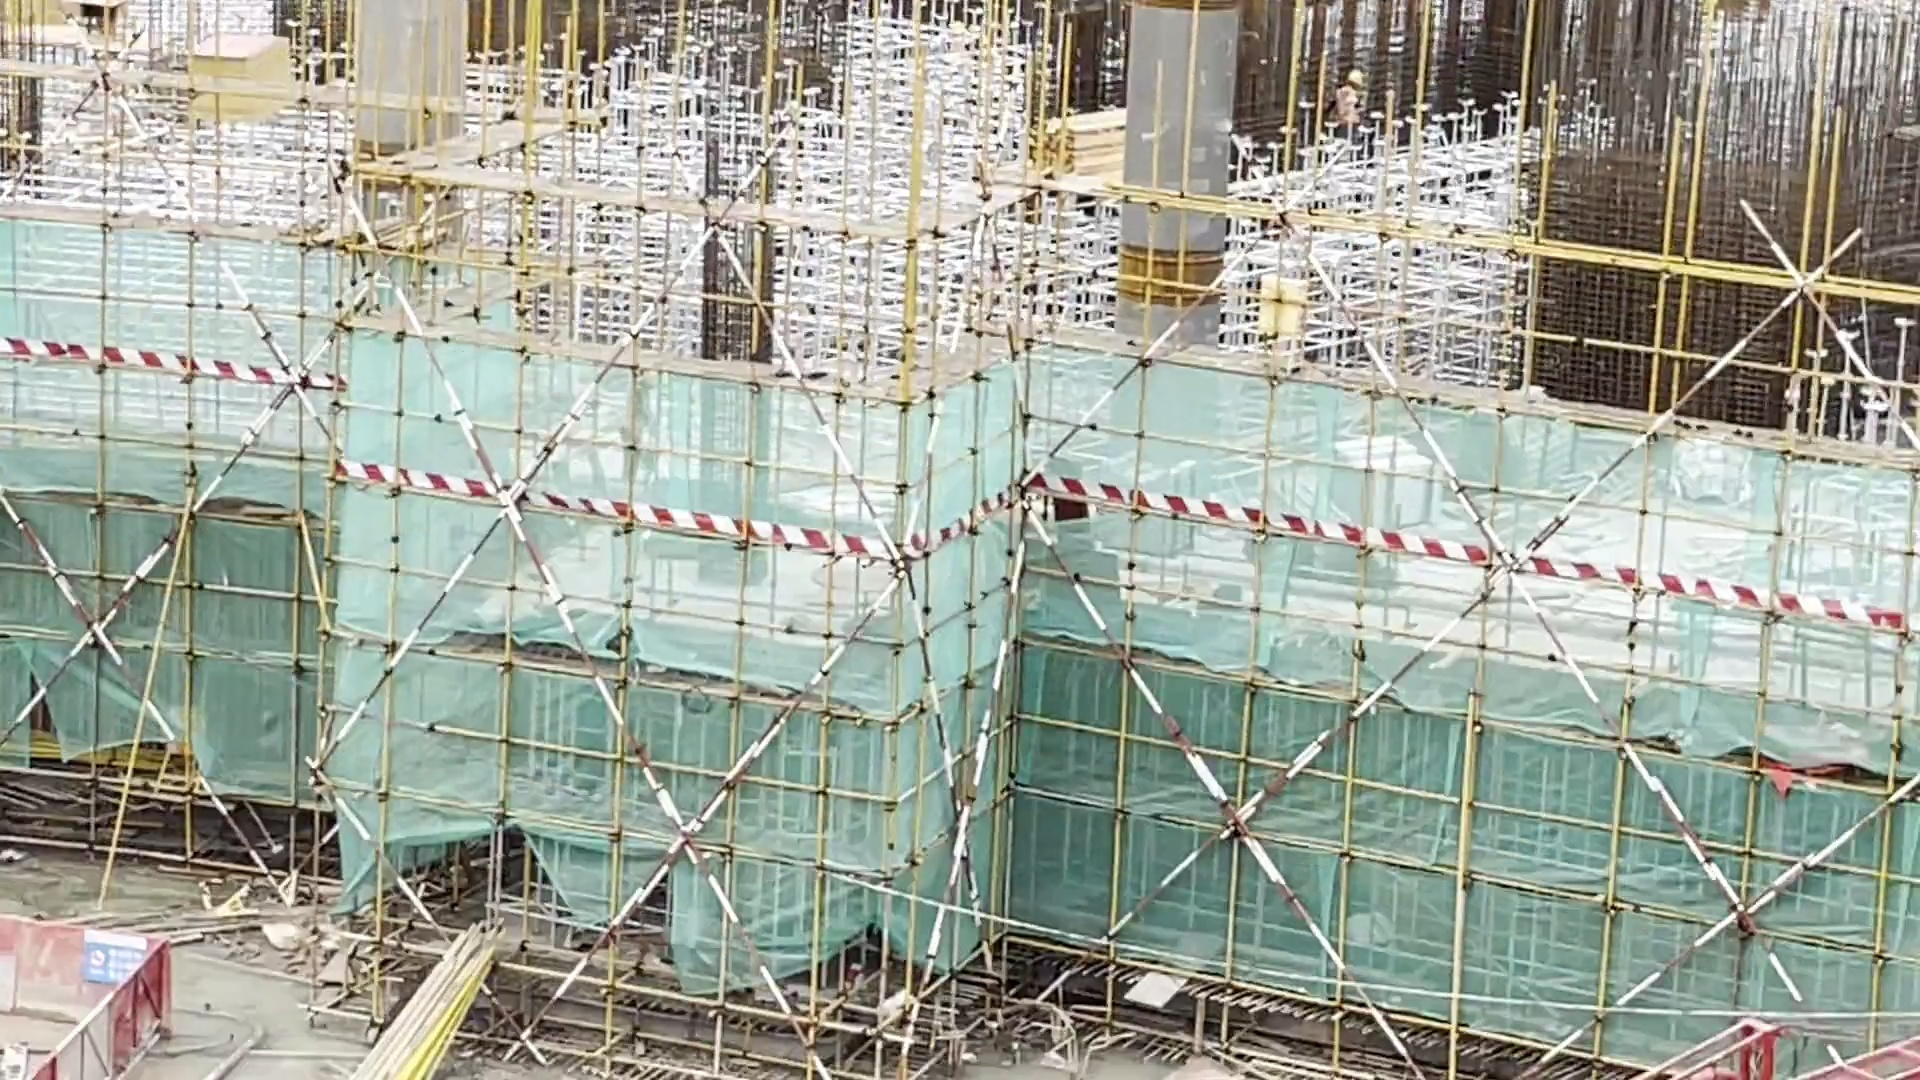fence: (1, 847, 189, 1061)
helmet: (1342, 66, 1377, 93)
person: (1325, 64, 1406, 157)
slogan: (67, 916, 156, 985)
